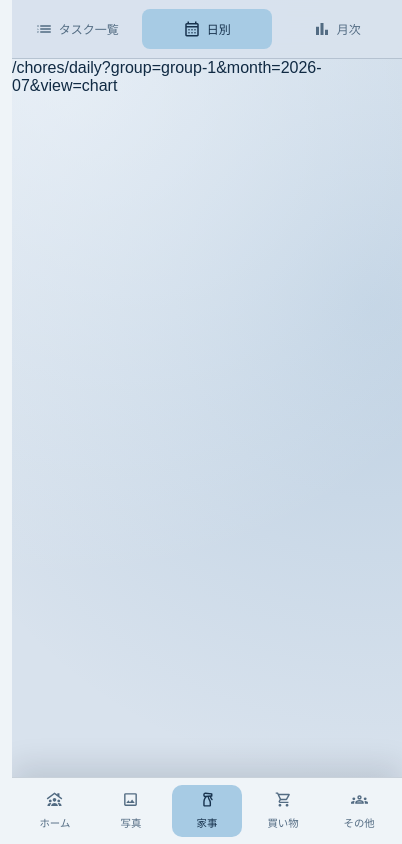
Test case: AppNavigation › groups chore destinations and preserves report filters
What coordinates should you click on to do the following:
click the link "月次"
I would click on:
 (337, 29)
Its box is [313,20,361,38].
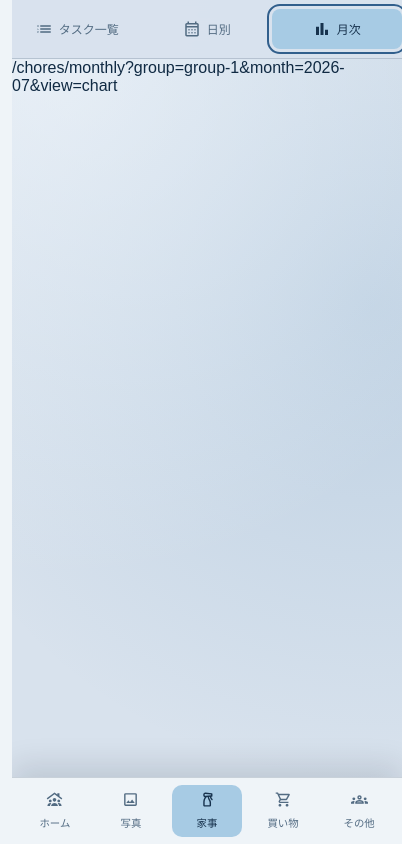
Check: the text named "current search" reads "?group=group-1&month=2026-07&view=chart", box [12,59,345,94]
Check: the text named "current path" reads "/chores/monthly", box [12,59,125,76]
